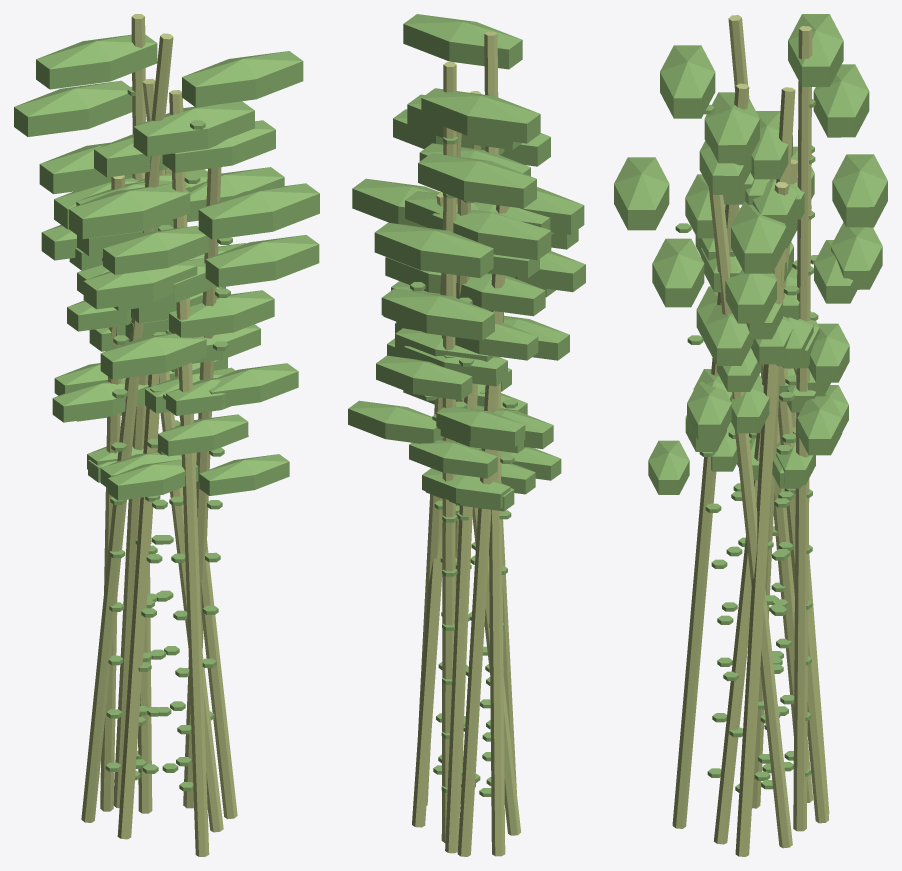
File: bamboo.glb
The picture shows the model from 3 angles, left to right: view 1: azimuth 30°, elevation 25°; view 2: azimuth 150°, elevation 25°; view 3: azimuth 270°, elevation 25°; orthographic projection. The views are drawn at different scales.
Visible parts, largest first — view 1: bamboo; view 2: bamboo; view 3: bamboo.
Boxes of the visible parts, x1,y1,x2,y2 form: bamboo: (14,14,319,856); bamboo: (348,14,585,856); bamboo: (614,14,887,856).
Bounding box in the file's own units: 1.84 × 6.53 × 2.01.
